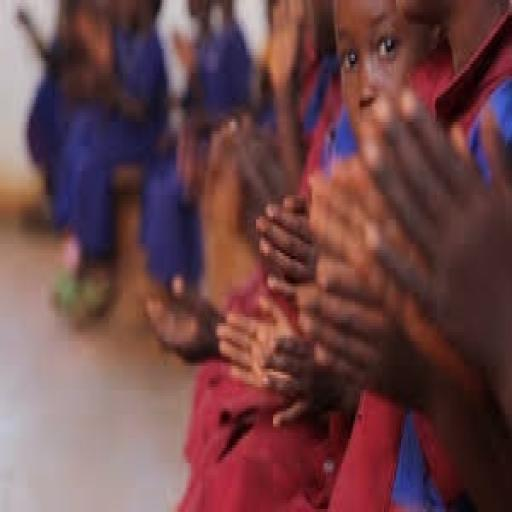clapping: (210, 30, 512, 512)
